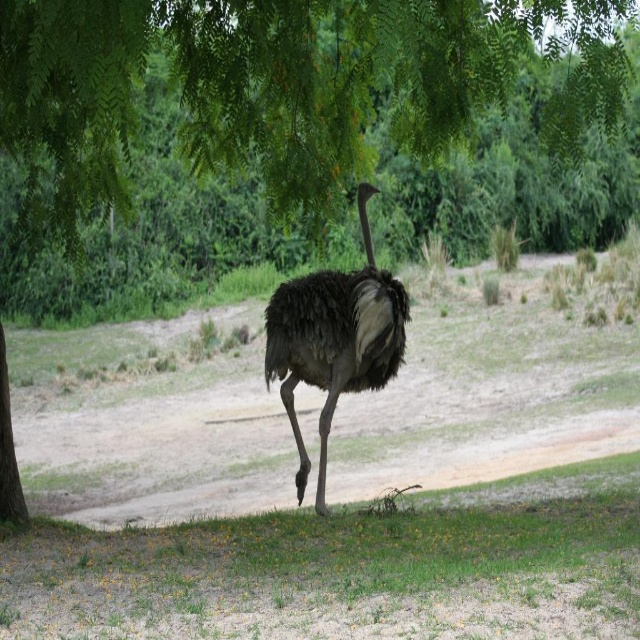Ostrich: (258, 182, 414, 519)
